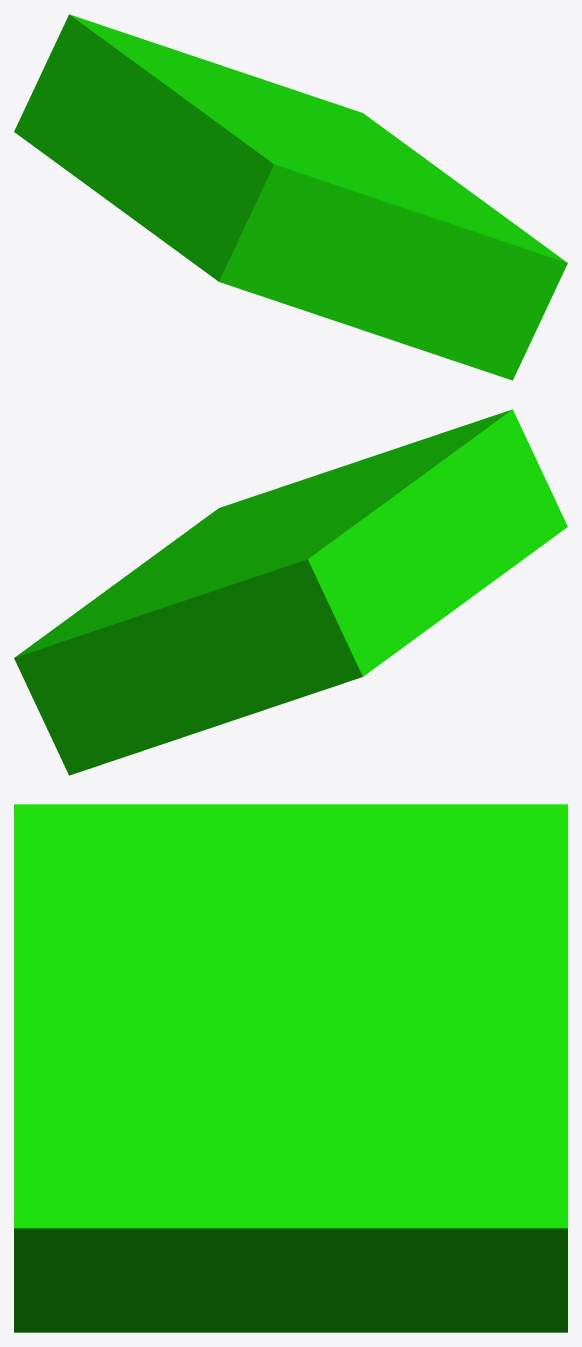
File: terrace_f1.glb
The picture shows the model from 3 angles, top to bottom: view 1: azimuth 30°, elevation 25°; view 2: azimuth 150°, elevation 25°; view 3: azimuth 270°, elevation 25°; orthographic projection. The views are drawn at different scales.
Visible parts, largest first — view 1: terrace_f1.glb; view 2: terrace_f1.glb; view 3: terrace_f1.glb.
Part boxes in pixels (bbox=[...]): terrace_f1.glb: bbox=[14, 14, 567, 380]; terrace_f1.glb: bbox=[14, 409, 567, 775]; terrace_f1.glb: bbox=[14, 804, 567, 1332].
Bounding box in the file's own units: 2.2 × 1.65 × 2.24.
